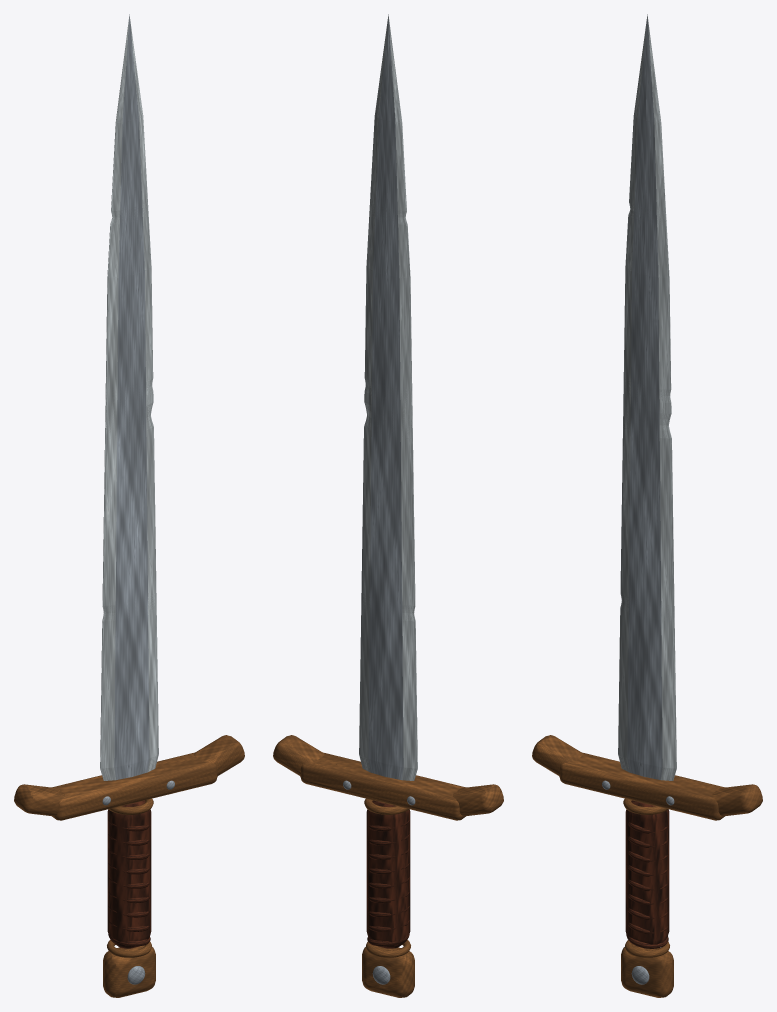
File: valdris_recruit_sword.glb
3 renders of one model, left to right at view 1: azimuth 30°, elevation 25°; view 2: azimuth 150°, elevation 25°; view 3: azimuth 330°, elevation 25°, orthographic.
Visible parts, largest first — view 1: Blade, Grip core, Centered crossguard, Wheel pommel, Swept quillon, Swept quillon.001; view 2: Blade, Grip core, Centered crossguard, Wheel pommel, Swept quillon, Swept quillon.001; view 3: Blade, Grip core, Centered crossguard, Wheel pommel, Swept quillon.001, Swept quillon.
Part boxes in pixels (x1,y1,x2,y2): Blade: (100, 14, 158, 780); Grip core: (107, 800, 151, 948); Centered crossguard: (51, 752, 217, 820); Wheel pommel: (103, 945, 155, 997); Swept quillon: (14, 784, 65, 816); Swept quillon.001: (193, 735, 244, 775); Blade: (359, 14, 417, 780); Grip core: (366, 800, 410, 948); Centered crossguard: (300, 752, 466, 820); Wheel pommel: (362, 945, 414, 997); Swept quillon: (452, 784, 503, 816); Swept quillon.001: (273, 735, 324, 775); Blade: (618, 14, 676, 780); Grip core: (625, 800, 669, 946); Centered crossguard: (559, 752, 725, 820); Wheel pommel: (621, 944, 673, 997); Swept quillon.001: (711, 784, 762, 816); Swept quillon: (532, 735, 583, 775).
Bounding box in the file's own units: 0.2411 × 1.02 × 0.046.
4 materials, 4 textured.
